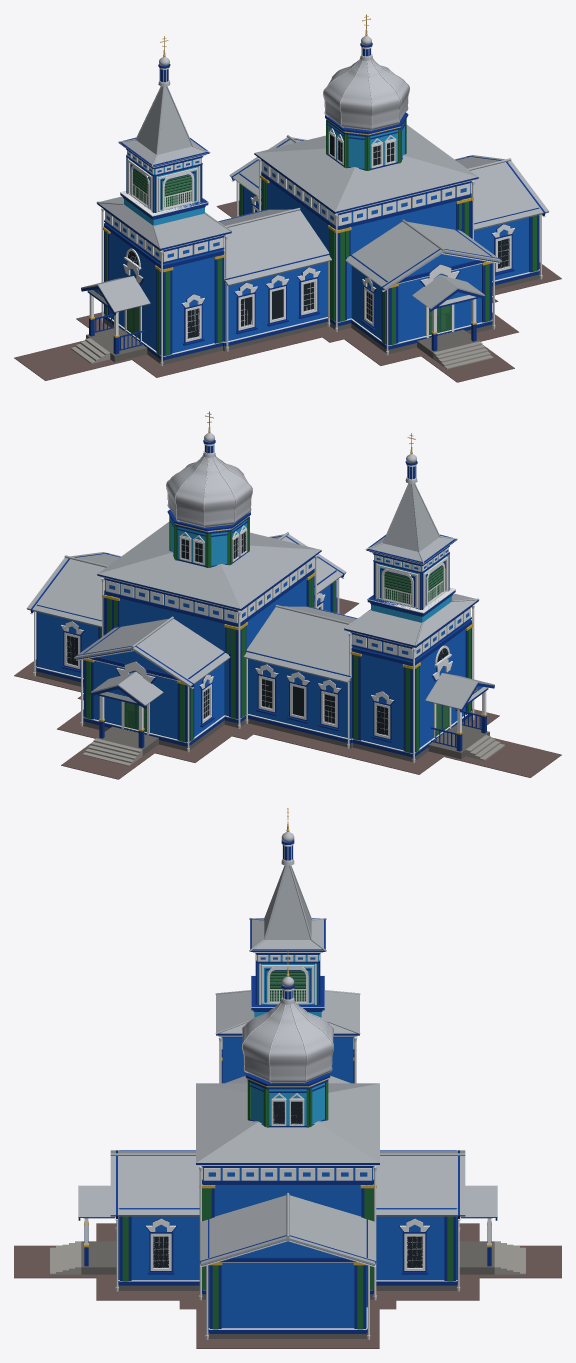
Rendered from mykolai.glb.
The picture shows the model from 3 angles, top to bottom: view 1: azimuth 30°, elevation 25°; view 2: azimuth 150°, elevation 25°; view 3: azimuth 270°, elevation 25°; orthographic projection. The views are drawn at different scales.
Visible parts, largest first — view 1: mykolai; view 2: mykolai; view 3: mykolai.
Part boxes in pixels (x1,y1,x2,y2): mykolai: [14, 14, 561, 382]; mykolai: [14, 411, 561, 779]; mykolai: [14, 808, 561, 1348].
Bounding box in the file's own units: 0.6 × 0.3505 × 0.5084.
23 materials, 1 textured.
